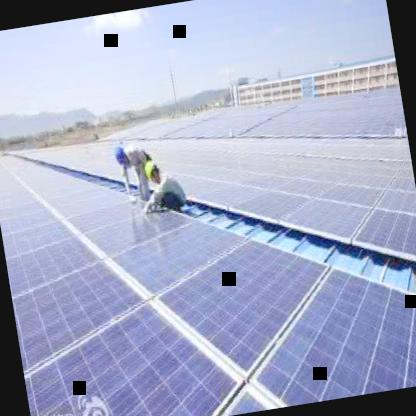helmet: (143, 158, 161, 188), (112, 142, 130, 168)
